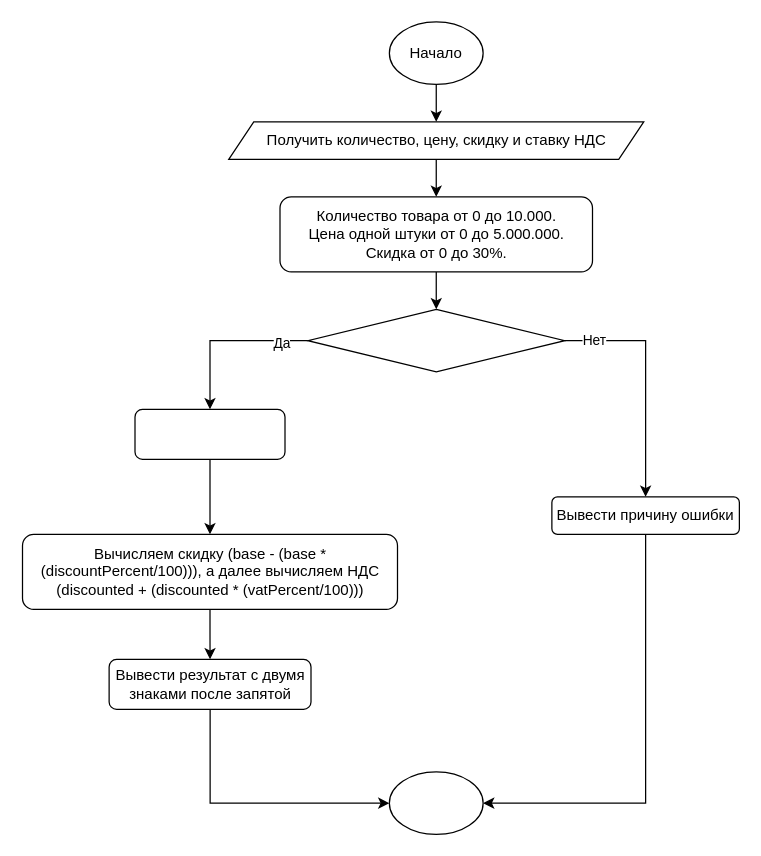
This 761x856 diagram has some shape labels left out. Here are the shapes that lost their labels. From the top down, the box of each, then its label:
(307, 308, 565, 372): Данные корректны
(134, 408, 285, 459): Вычислить базовую сумму
(388, 771, 483, 834): Завершение
